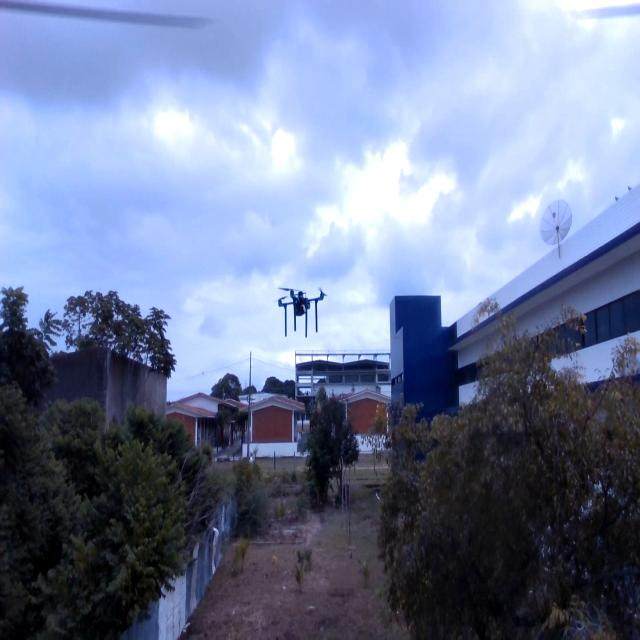-uav-: (261, 267, 335, 351)
